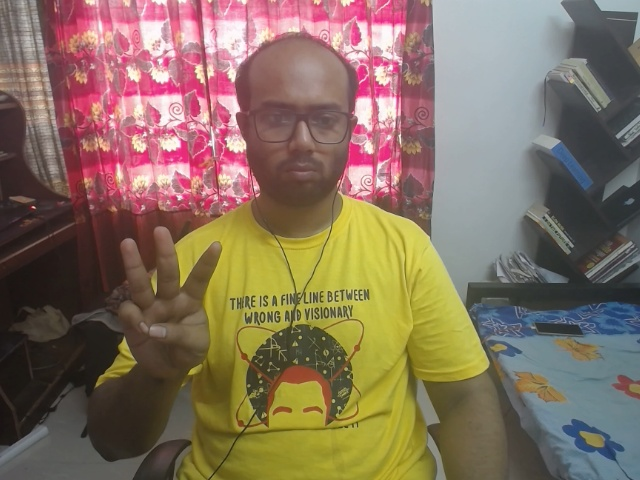four: (94, 207, 248, 386)
